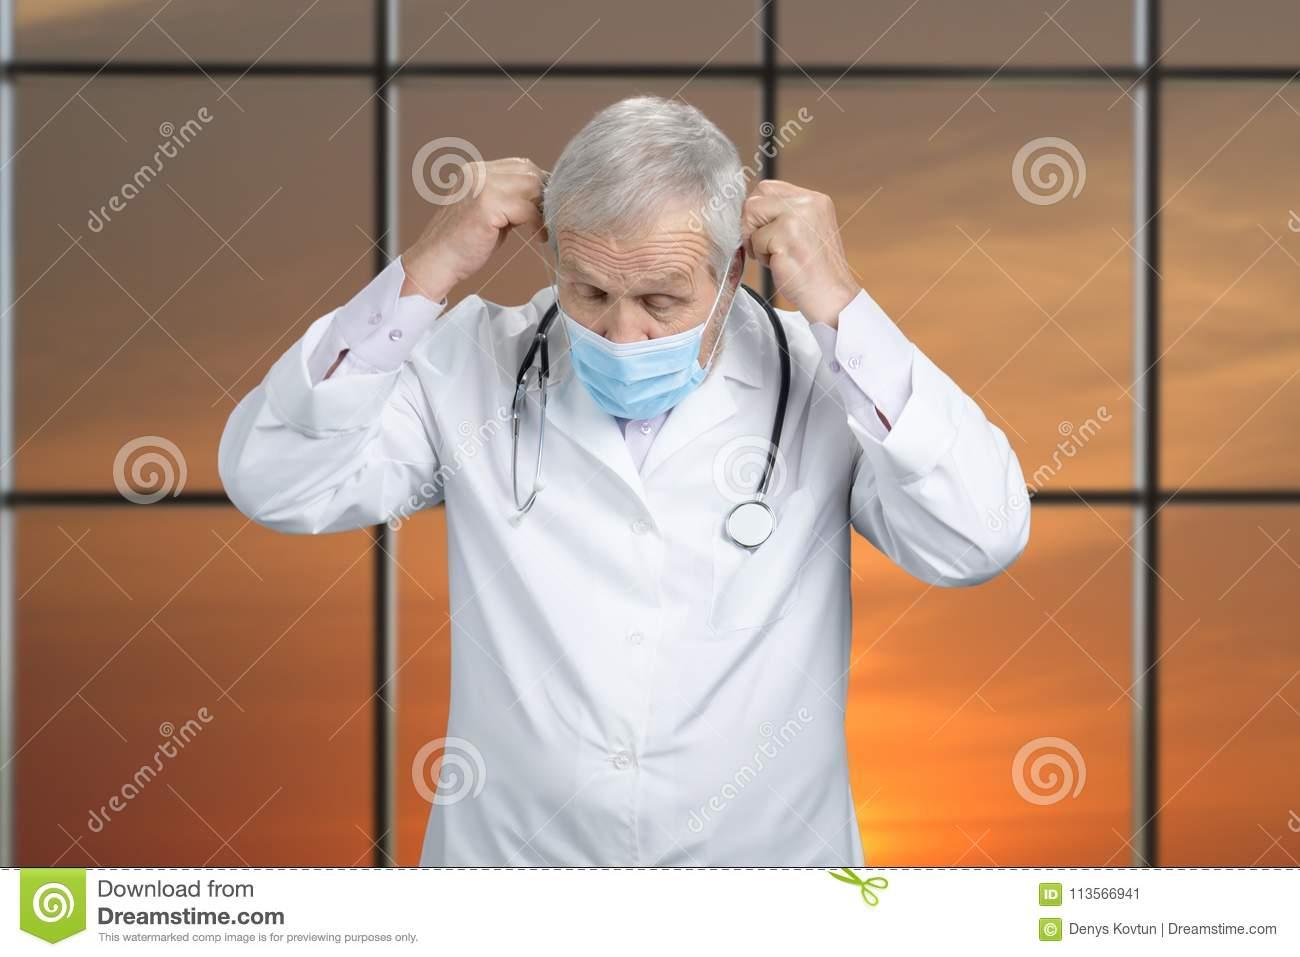mask: (557, 320, 697, 419)
